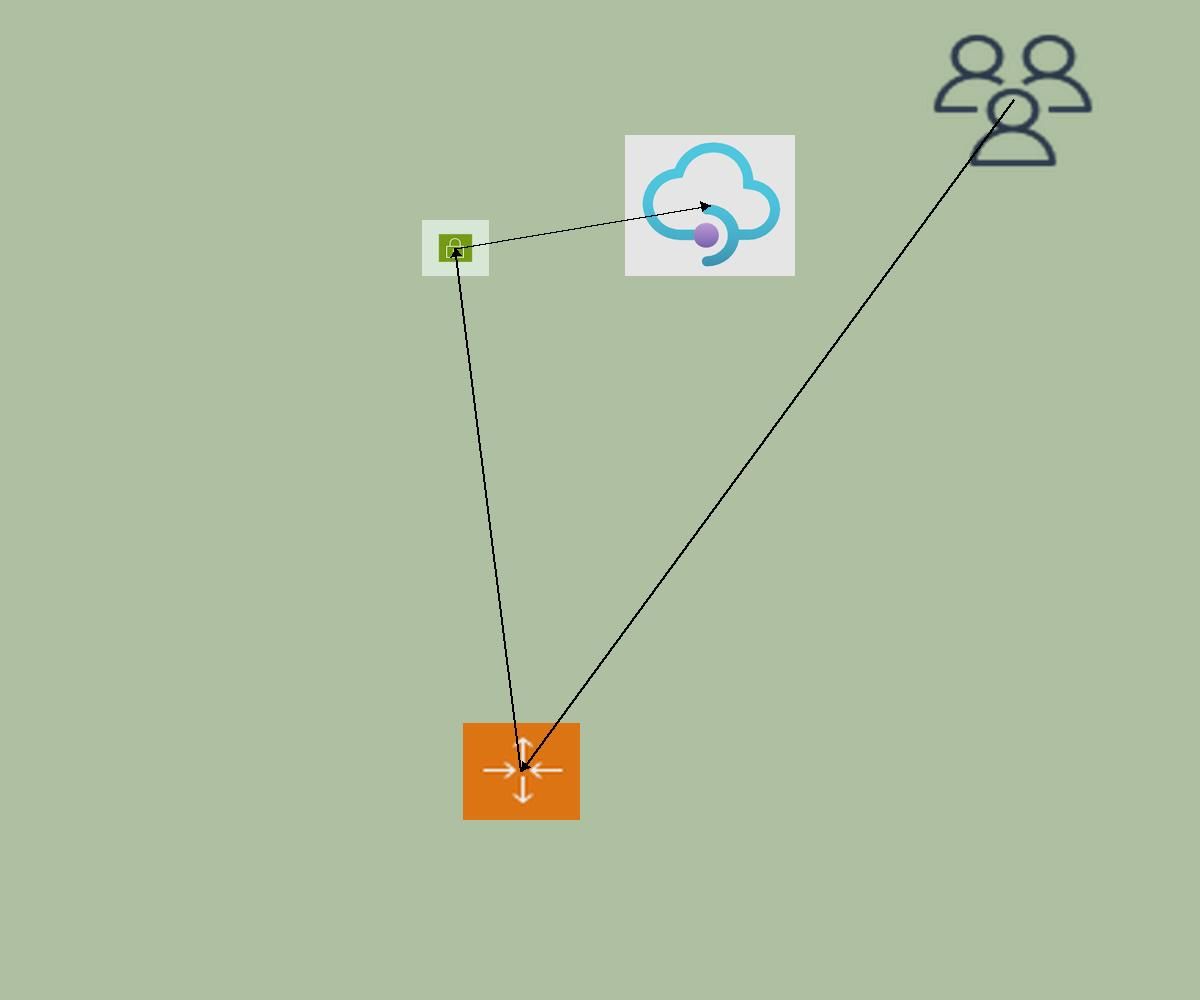AWS-Public-subnet: (422, 220, 489, 276)
AWS-Res_Users: (927, 29, 1099, 172)
AWS-Scaling-group: (463, 723, 580, 820)
Azure_api_gateway: (625, 135, 795, 276)
